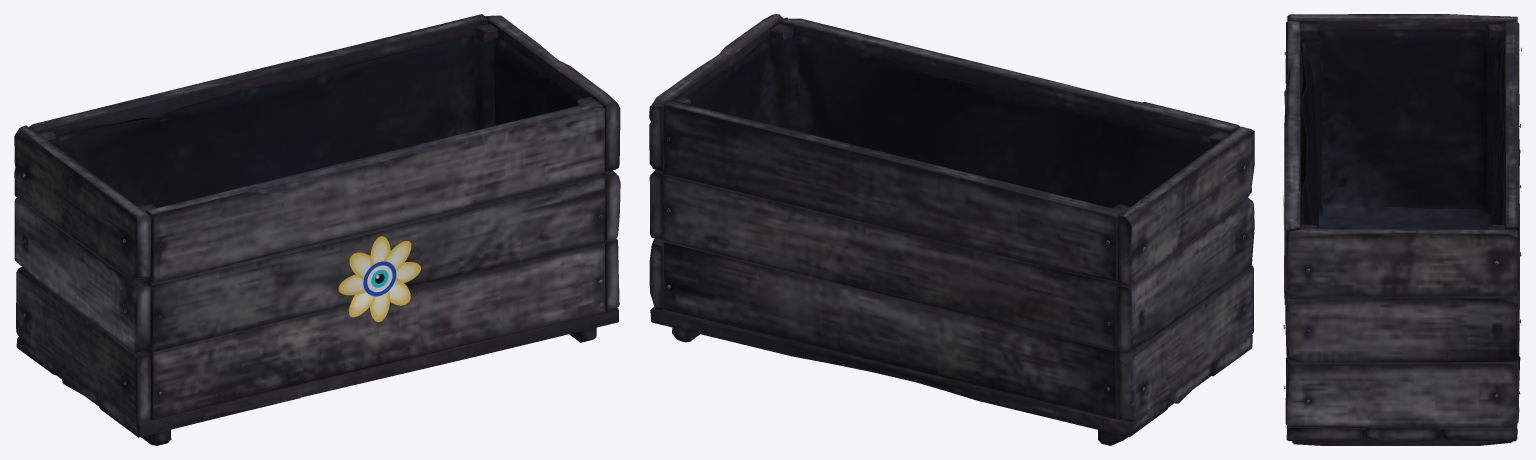
The model's file is isl_planter.glb.
The picture shows the model from 3 angles, left to right: view 1: azimuth 30°, elevation 25°; view 2: azimuth 150°, elevation 25°; view 3: azimuth 270°, elevation 25°; orthographic projection. The views are drawn at different scales.
Visible parts, largest first — view 1: planter_box_01, stk_eyeflower_gold.png; view 2: planter_box_01; view 3: planter_box_01.
Part boxes in pixels (x1,y1,x2,y2): planter_box_01: [14, 14, 620, 445]; stk_eyeflower_gold.png: [338, 236, 420, 321]; planter_box_01: [649, 14, 1254, 445]; planter_box_01: [1283, 14, 1521, 445].
Size of the model in its own units: 0.9132 by 0.4255 by 0.4149.
Materials: 2 (2 with a texture image).
